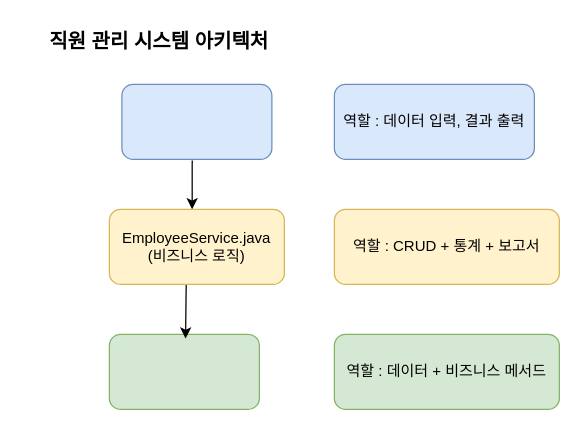
This 581x431 diagram has some shape labels left out. Each missing label, with the centre of its shape:
Employee.java (도메인 객체): the point at 183,371
Main.java (메인 클래스): the point at 196,121
